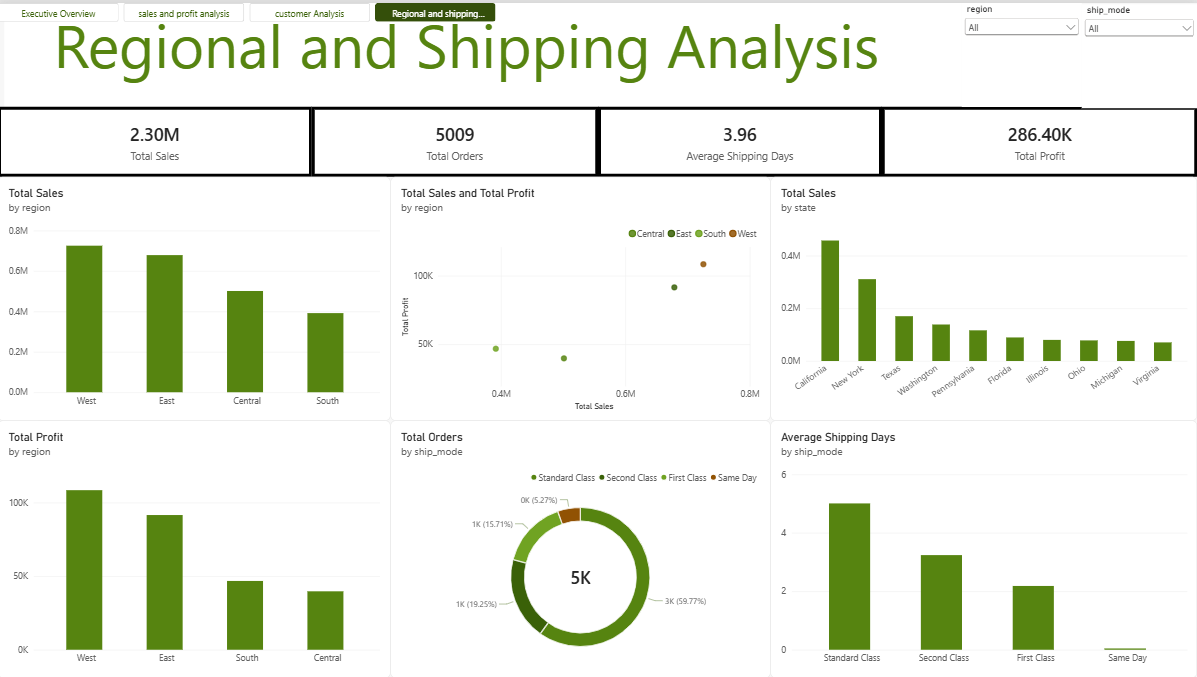

What the dashboard file says about the page in this screenshot:
{"tool":"powerbi","page":{"name":"Regional and shipping Analysis","canvas":[1920,1080],"ordinal":3},"visuals":[{"type":"textbox","box":[10,0,1532,166],"z":0},{"type":"card","fields":{"Values":["fact_sales.Total Sales"]},"box":[0,166,502,112],"z":1000},{"type":"card","fields":{"Values":["fact_sales.Total Profit"]},"box":[1414,166,506,112],"z":2000},{"type":"card","fields":{"Values":["fact_sales.Total Orders"]},"box":[502,166,458,112],"z":3000},{"type":"card","fields":{"Values":["fact_sales.Average Shipping Days"]},"box":[960,166,454,112],"z":4000},{"type":"clusteredColumnChart","fields":{"Category":["dim_location.region"],"Y":["fact_sales.Total Sales"]},"box":[0,278,628,390],"z":5000},{"type":"clusteredColumnChart","fields":{"Category":["dim_location.region"],"Y":["fact_sales.Total Profit"]},"box":[0,668,628,412],"z":6000},{"type":"scatterChart","fields":{"Series":["dim_location.region"],"X":["fact_sales.Total Sales"],"Y":["fact_sales.Total Profit"]},"box":[628,278,608,390],"z":7000},{"type":"clusteredColumnChart","fields":{"Category":["dim_location.state"],"Y":["fact_sales.Total Sales"]},"box":[1236,278,684,390],"z":8000},{"type":"clusteredColumnChart","fields":{"Category":["dim_ship_mode.ship_mode"],"Y":["fact_sales.Average Shipping Days"]},"box":[1236,668,684,412],"z":9000},{"type":"donutChart","fields":{"Category":["dim_ship_mode.ship_mode"],"Y":["fact_sales.Total Orders"]},"box":[628,668,608,412],"z":10000},{"type":"slicer","fields":{"Values":["dim_location.region"]},"box":[1542,0,192,166],"z":12000},{"type":"slicer","fields":{"Values":["dim_ship_mode.ship_mode"]},"box":[1734,2,186,166],"z":13000},{"type":"pageNavigator","box":[0,0,796,30],"z":14000}]}

Visuals, with their boxes on the page's 1920x1080 design canvas (x1, y1, x2, y2). These are canvas units, not pixel positions in the 1197x677 screenshot, which may show the page scaled, cropped or inside an application window:
textbox: box(10, 0, 1542, 166)
card - fact_sales.Total Sales: box(0, 166, 502, 278)
card - fact_sales.Total Profit: box(1414, 166, 1920, 278)
card - fact_sales.Total Orders: box(502, 166, 960, 278)
card - fact_sales.Average Shipping Days: box(960, 166, 1414, 278)
clusteredColumnChart - dim_location.region x fact_sales.Total Sales: box(0, 278, 628, 668)
clusteredColumnChart - dim_location.region x fact_sales.Total Profit: box(0, 668, 628, 1080)
scatterChart - dim_location.region x fact_sales.Total Sales: box(628, 278, 1236, 668)
clusteredColumnChart - dim_location.state x fact_sales.Total Sales: box(1236, 278, 1920, 668)
clusteredColumnChart - dim_ship_mode.ship_mode x fact_sales.Average Shipping Days: box(1236, 668, 1920, 1080)
donutChart - dim_ship_mode.ship_mode x fact_sales.Total Orders: box(628, 668, 1236, 1080)
slicer - dim_location.region: box(1542, 0, 1734, 166)
slicer - dim_ship_mode.ship_mode: box(1734, 2, 1920, 168)
pageNavigator: box(0, 0, 796, 30)
